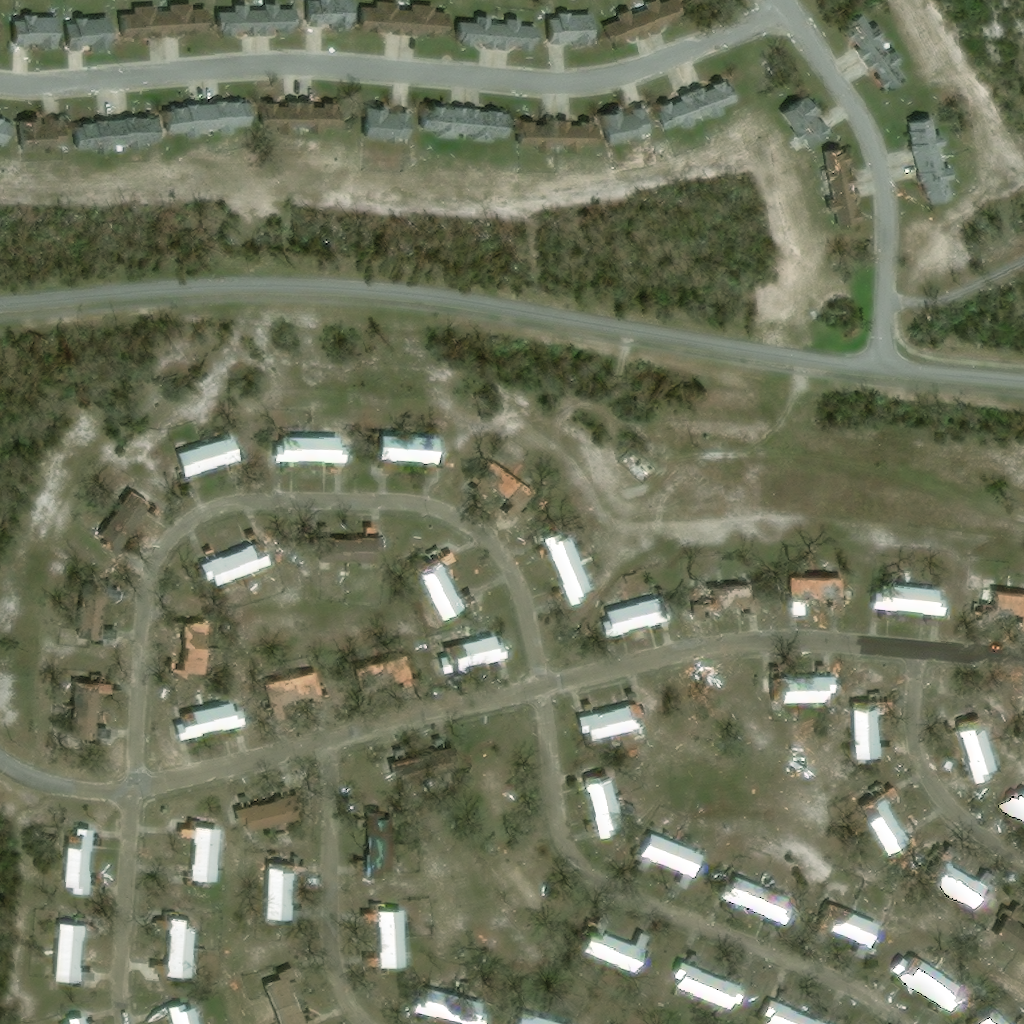major_damage: (925, 845, 994, 908), (68, 676, 110, 744), (575, 700, 648, 739), (691, 582, 758, 619), (778, 576, 839, 615), (975, 588, 1023, 631), (761, 675, 833, 701)
minor_damage: (413, 548, 476, 619), (857, 783, 919, 853), (96, 485, 153, 557), (587, 916, 657, 972), (807, 902, 877, 958), (630, 832, 700, 887), (475, 459, 539, 519), (890, 953, 957, 1009), (718, 875, 790, 924), (357, 2, 445, 40), (545, 535, 592, 606), (200, 537, 271, 584), (672, 960, 743, 1007), (358, 654, 422, 703), (265, 671, 329, 720), (121, 3, 208, 39), (175, 436, 234, 488), (579, 765, 621, 836), (151, 910, 194, 979), (600, 595, 673, 635), (954, 711, 995, 782), (54, 919, 96, 988), (373, 434, 442, 476), (364, 903, 405, 971), (268, 857, 308, 925), (174, 703, 242, 743), (177, 819, 219, 882), (440, 635, 511, 672), (78, 582, 118, 647), (394, 746, 461, 784), (217, 4, 296, 36), (782, 95, 830, 146), (166, 610, 203, 675), (412, 989, 484, 1022), (870, 586, 944, 615), (852, 690, 882, 755), (272, 436, 343, 463), (63, 828, 92, 894), (860, 45, 904, 88), (842, 14, 882, 59), (315, 536, 386, 561), (689, 80, 735, 118), (602, 106, 650, 142), (602, 10, 647, 48), (760, 998, 827, 1023), (915, 158, 952, 203), (907, 117, 942, 163), (657, 92, 699, 130), (548, 12, 594, 46), (366, 812, 390, 877), (639, 0, 682, 36), (19, 118, 63, 153), (115, 116, 160, 150), (461, 108, 506, 142), (12, 16, 57, 50), (819, 149, 855, 191), (76, 119, 119, 154), (826, 186, 861, 229), (419, 106, 463, 139), (992, 909, 1023, 954), (457, 17, 498, 50), (557, 120, 597, 152), (518, 120, 558, 152), (497, 19, 537, 51), (306, 0, 351, 28), (300, 102, 339, 134), (261, 102, 300, 134), (167, 1002, 197, 1023), (973, 1008, 1011, 1023), (515, 1013, 556, 1023), (0, 118, 14, 147), (0, 21, 5, 32)
no_damage: (264, 967, 314, 1023), (234, 793, 301, 831), (362, 106, 406, 141), (205, 100, 249, 134), (67, 17, 109, 52), (165, 103, 207, 137), (1007, 790, 1023, 814), (67, 1015, 84, 1023)
